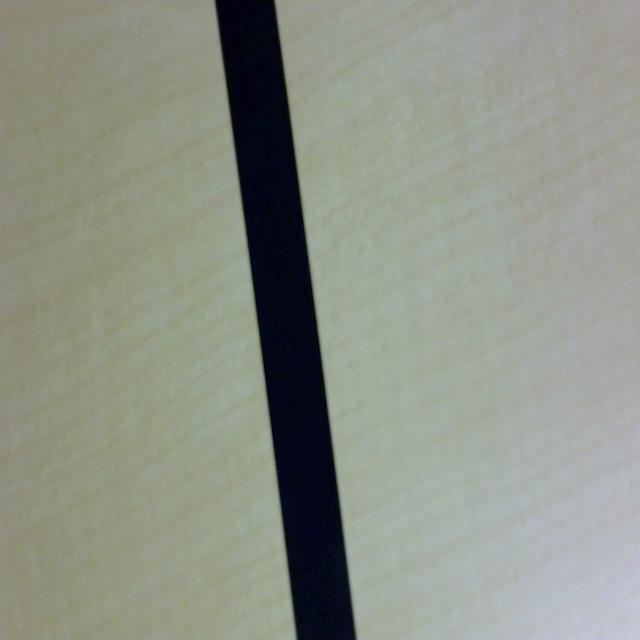tape: (205, 0, 384, 640)
